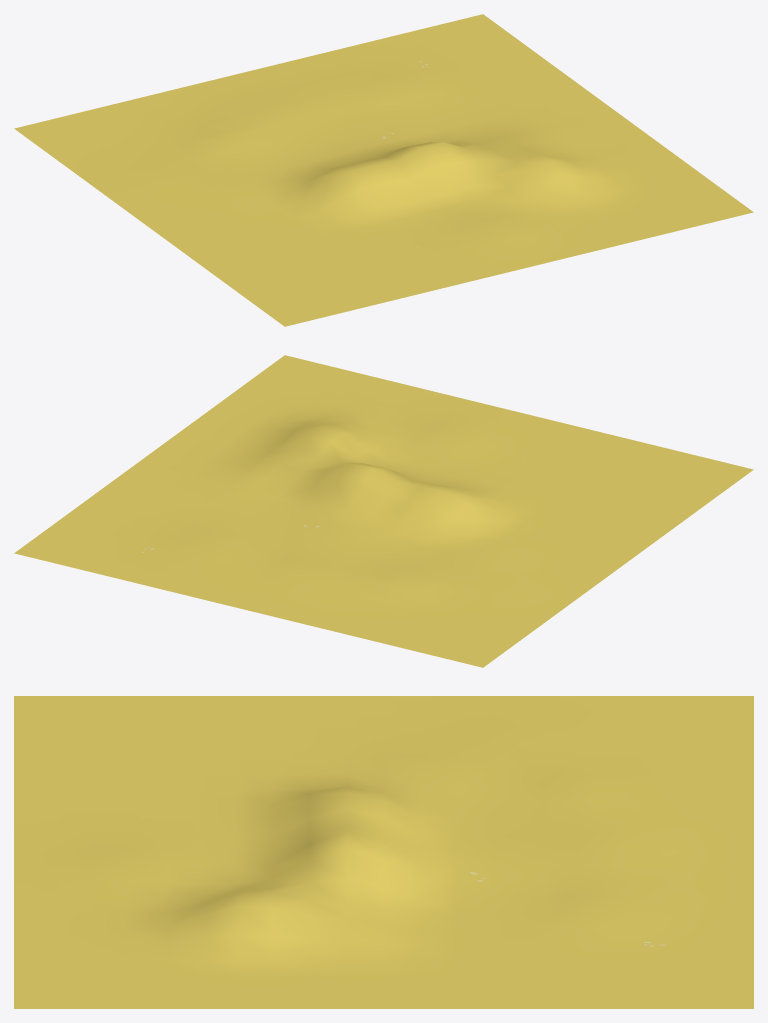
Rendered from SandPlane_Large_Flat_Alt.fbx.
The picture shows the model from 3 angles, top to bottom: view 1: azimuth 30°, elevation 25°; view 2: azimuth 150°, elevation 25°; view 3: azimuth 270°, elevation 25°; orthographic projection. The views are drawn at different scales.
Visible parts, largest first — view 1: SandPlane_Large_Flat_Alt; view 2: SandPlane_Large_Flat_Alt; view 3: SandPlane_Large_Flat_Alt.
Part boxes in pixels (x1=…): SandPlane_Large_Flat_Alt: x1=14, y1=14, x2=753, y2=326; SandPlane_Large_Flat_Alt: x1=14, y1=355, x2=753, y2=667; SandPlane_Large_Flat_Alt: x1=14, y1=696, x2=753, y2=1008.
Size of the model in its own units: 4000 by 4000 by 221.
Materials: 1 (1 with a texture image).
